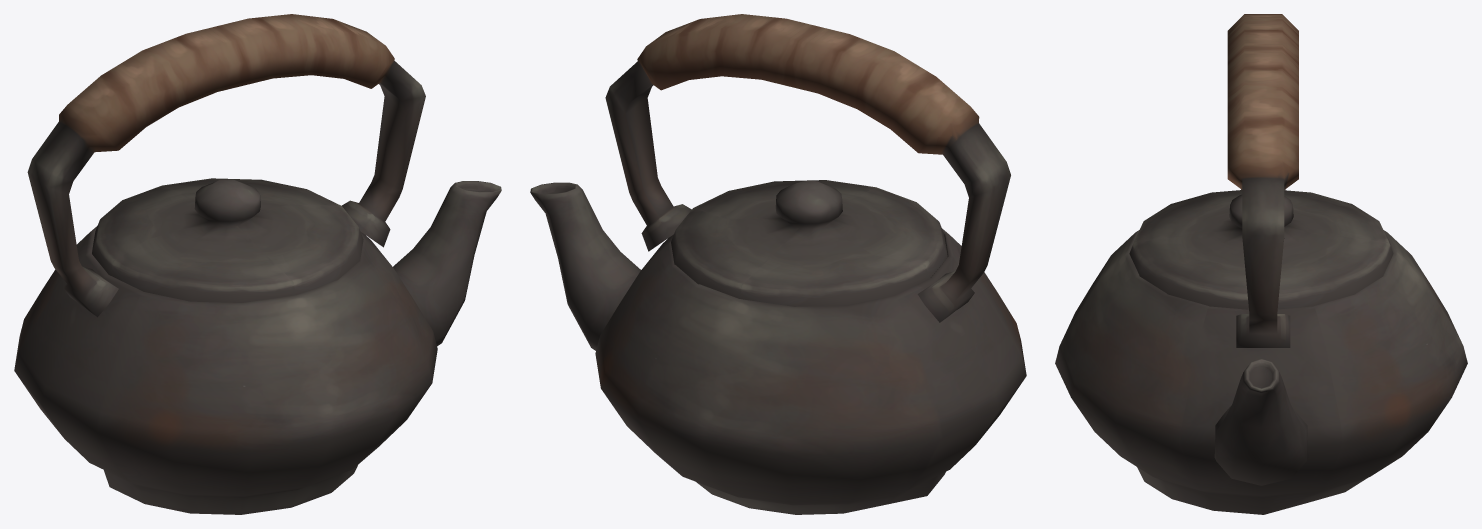
Rendered from Teapot.FBX.
3 renders of one model, left to right at view 1: azimuth 30°, elevation 25°; view 2: azimuth 150°, elevation 25°; view 3: azimuth 270°, elevation 25°, orthographic. The views are drawn at different scales.
Parts seen in each view (by area): view 1: Teapot; view 2: Teapot; view 3: Teapot.
Part boxes in pixels (left/top/right/bottom): Teapot: left=14, top=14, right=501, bottom=514; Teapot: left=530, top=14, right=1026, bottom=514; Teapot: left=1055, top=14, right=1467, bottom=514.
Size of the model in its own units: 158 by 139 by 126.
